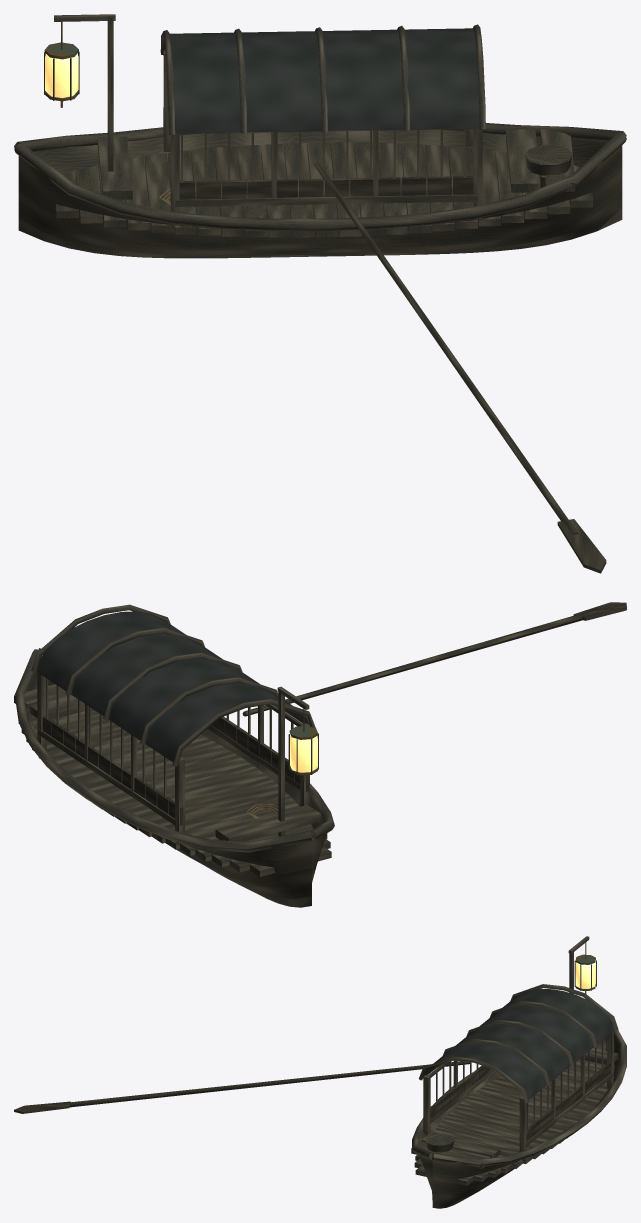
Rendered from boat_lod0.glb.
3 renders of one model, top to bottom at view 1: azimuth 30°, elevation 25°; view 2: azimuth 150°, elevation 25°; view 3: azimuth 270°, elevation 25°, orthographic. The views are drawn at different scales.
Visible parts, largest first — view 1: boat_L0__timber, boat_L0__reed, boat_L0__paper; view 2: boat_L0__timber, boat_L0__reed, boat_L0__paper, boat_L0__metal; view 3: boat_L0__timber, boat_L0__reed, boat_L0__paper.
Boxes of the visible parts, box(x1,y1,x2,y2) form: boat_L0__timber: box(14, 14, 626, 573); boat_L0__reed: box(169, 28, 479, 133); boat_L0__paper: box(45, 54, 78, 97); boat_L0__timber: box(14, 602, 626, 907); boat_L0__reed: box(37, 611, 308, 762); boat_L0__paper: box(290, 735, 317, 772); boat_L0__metal: box(289, 721, 317, 775); boat_L0__timber: box(14, 936, 626, 1208); boat_L0__reed: box(423, 989, 614, 1099); boat_L0__paper: box(575, 962, 595, 988).
Size of the model in its own units: 4.26 by 2.16 by 7.67.
5 materials, 5 textured.
